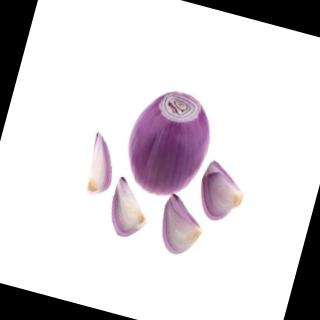Bawang Merah: (114, 80, 224, 209)
